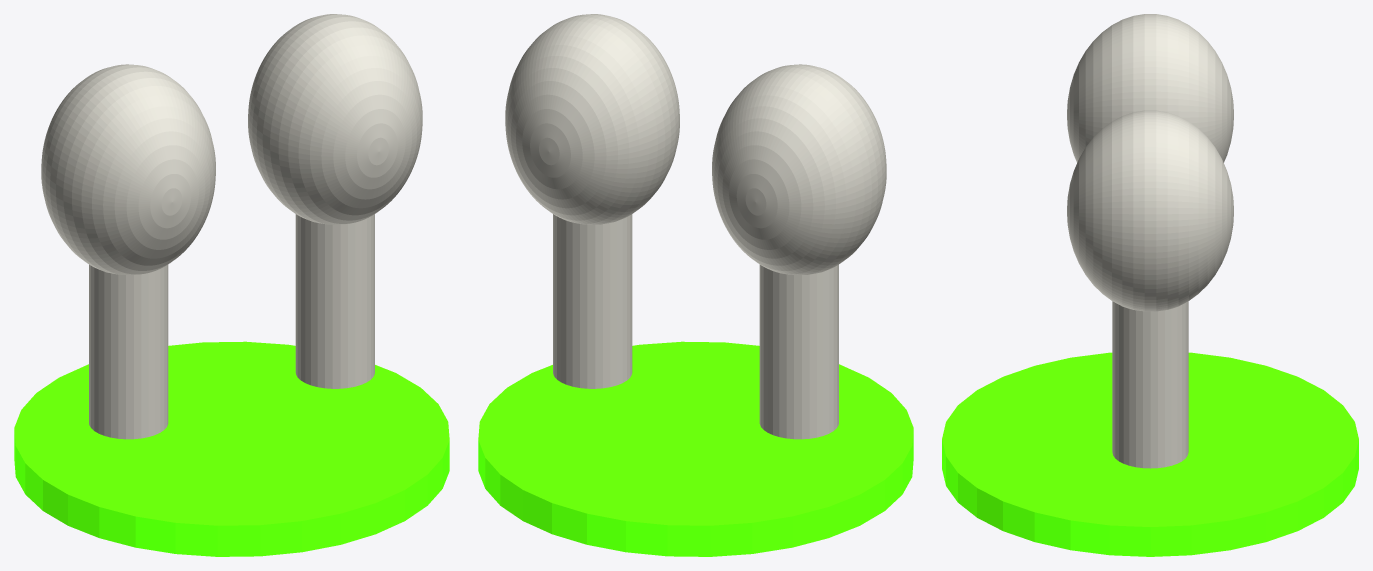
File: tech_earbuds.dae
The picture shows the model from 3 angles, left to right: view 1: azimuth 30°, elevation 25°; view 2: azimuth 150°, elevation 25°; view 3: azimuth 270°, elevation 25°; orthographic projection. The views are drawn at different scales.
Visible parts, largest first — view 1: 08_04_Popular_Tech_Earbuds_ROOT_base, 08_04_Popular_Tech_Earbuds_part_01, 08_04_Popular_Tech_Earbuds_part_03, 08_04_Popular_Tech_Earbuds_part_04, 08_04_Popular_Tech_Earbuds_part_02; view 2: 08_04_Popular_Tech_Earbuds_ROOT_base, 08_04_Popular_Tech_Earbuds_part_01, 08_04_Popular_Tech_Earbuds_part_03, 08_04_Popular_Tech_Earbuds_part_04, 08_04_Popular_Tech_Earbuds_part_02; view 3: 08_04_Popular_Tech_Earbuds_ROOT_base, 08_04_Popular_Tech_Earbuds_part_03, 08_04_Popular_Tech_Earbuds_part_01, 08_04_Popular_Tech_Earbuds_part_04.
Boxes of the visible parts, x1,y1,x2,y2 form: 08_04_Popular_Tech_Earbuds_ROOT_base: (14, 341, 449, 556); 08_04_Popular_Tech_Earbuds_part_01: (41, 64, 215, 274); 08_04_Popular_Tech_Earbuds_part_03: (248, 14, 422, 224); 08_04_Popular_Tech_Earbuds_part_04: (295, 214, 374, 388); 08_04_Popular_Tech_Earbuds_part_02: (89, 264, 168, 439); 08_04_Popular_Tech_Earbuds_ROOT_base: (478, 341, 913, 556); 08_04_Popular_Tech_Earbuds_part_01: (712, 64, 886, 274); 08_04_Popular_Tech_Earbuds_part_03: (505, 14, 679, 224); 08_04_Popular_Tech_Earbuds_part_04: (553, 214, 632, 388); 08_04_Popular_Tech_Earbuds_part_02: (759, 264, 838, 439); 08_04_Popular_Tech_Earbuds_ROOT_base: (942, 352, 1358, 556); 08_04_Popular_Tech_Earbuds_part_03: (1067, 110, 1233, 311); 08_04_Popular_Tech_Earbuds_part_01: (1067, 14, 1233, 162); 08_04_Popular_Tech_Earbuds_part_04: (1112, 301, 1188, 468).
Bounding box in the file's own units: 0.76 × 0.8052 × 0.76.
